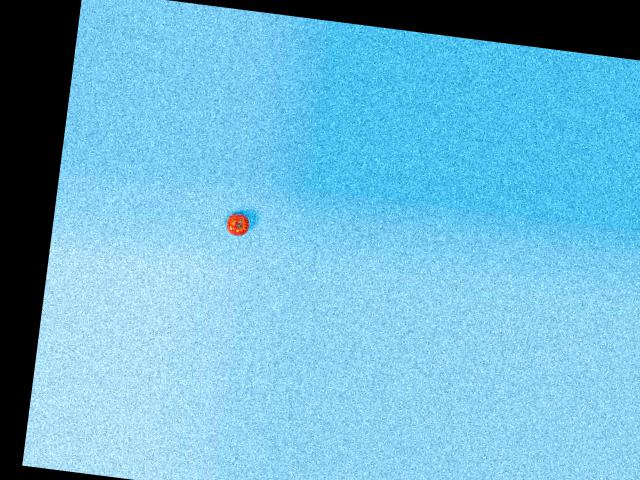tomato: (226, 212, 251, 237)
